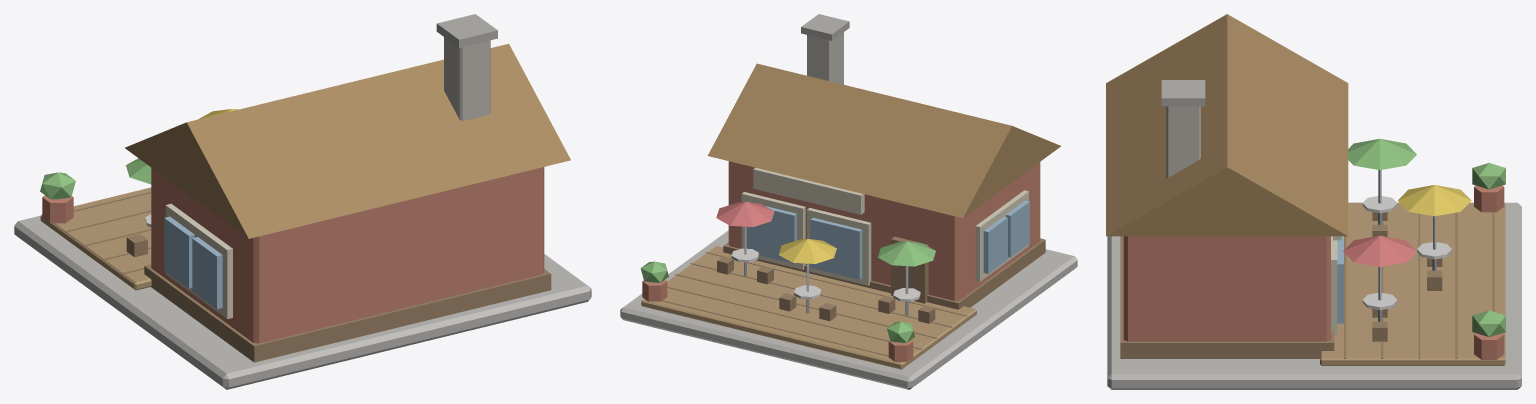
File: comercial__restaurante.glb
3 views of the same model, side by side, from view 1: azimuth 30°, elevation 25°; view 2: azimuth 150°, elevation 25°; view 3: azimuth 270°, elevation 25° (orthographic). The views are drawn at different scales.
Visible parts, largest first — view 1: comercial__restaurante; view 2: comercial__restaurante; view 3: comercial__restaurante.
Boxes of the visible parts, left/top/right/bottom form: comercial__restaurante: left=14, top=14, right=591, bottom=389; comercial__restaurante: left=620, top=14, right=1077, bottom=389; comercial__restaurante: left=1106, top=14, right=1521, bottom=389.
Bounding box in the file's own units: 1.9 × 1.32 × 1.91.
